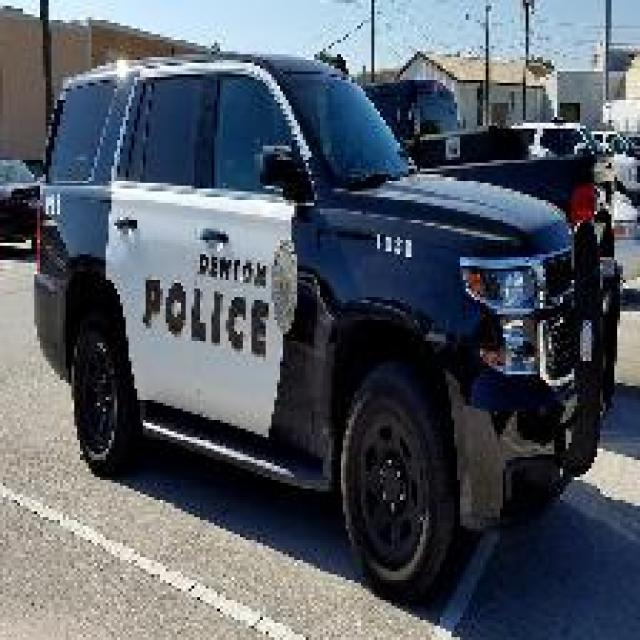Police-car: (28, 43, 623, 600)
